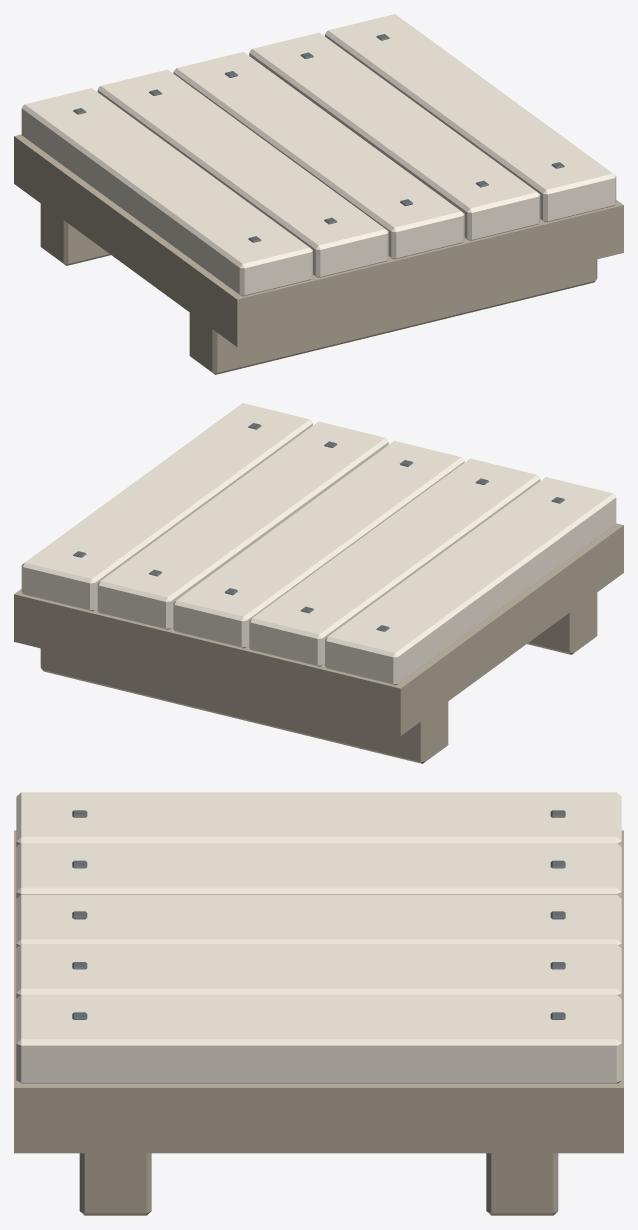
Rendered from wood_span.glb.
3 renders of one model, top to bottom at view 1: azimuth 30°, elevation 25°; view 2: azimuth 150°, elevation 25°; view 3: azimuth 270°, elevation 25°, orthographic. The views are drawn at different scales.
Parts seen in each view (by area): view 1: wood_span; view 2: wood_span; view 3: wood_span.
Boxes of the visible parts, bbox=[...] form: wood_span: bbox=[14, 14, 623, 374]; wood_span: bbox=[14, 403, 623, 763]; wood_span: bbox=[14, 792, 623, 1215].
Size of the model in its own units: 1.02 by 0.324 by 1.02.
